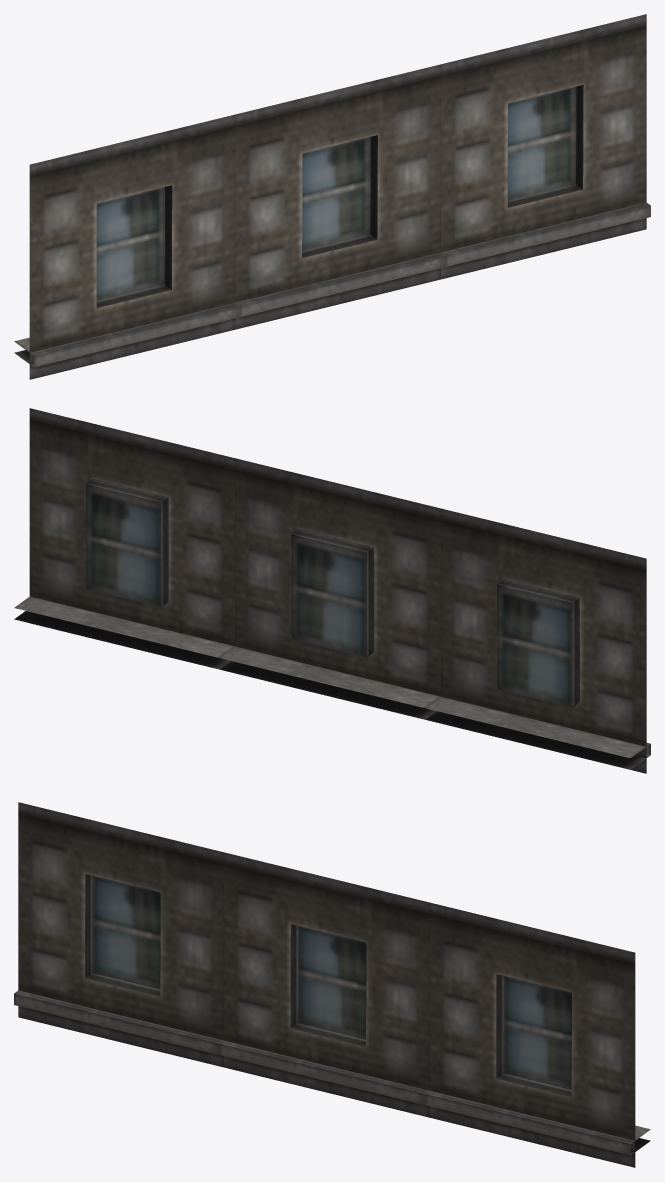
Rendered from B1_MiddleFloorWindow3x.FBX.
3 views of the same model, one above another, from view 1: azimuth 30°, elevation 25°; view 2: azimuth 150°, elevation 25°; view 3: azimuth 330°, elevation 25° (orthographic).
Parts seen in each view (by area): view 1: B1_MiddleFloorWindow3x; view 2: B1_MiddleFloorWindow3x; view 3: B1_MiddleFloorWindow3x.
Part boxes in pixels (x1,y1,x2,y2): B1_MiddleFloorWindow3x: (14,14,650,379); B1_MiddleFloorWindow3x: (14,408,650,773); B1_MiddleFloorWindow3x: (14,802,650,1167).
Size of the model in its own units: 12 by 4 by 0.6788.
